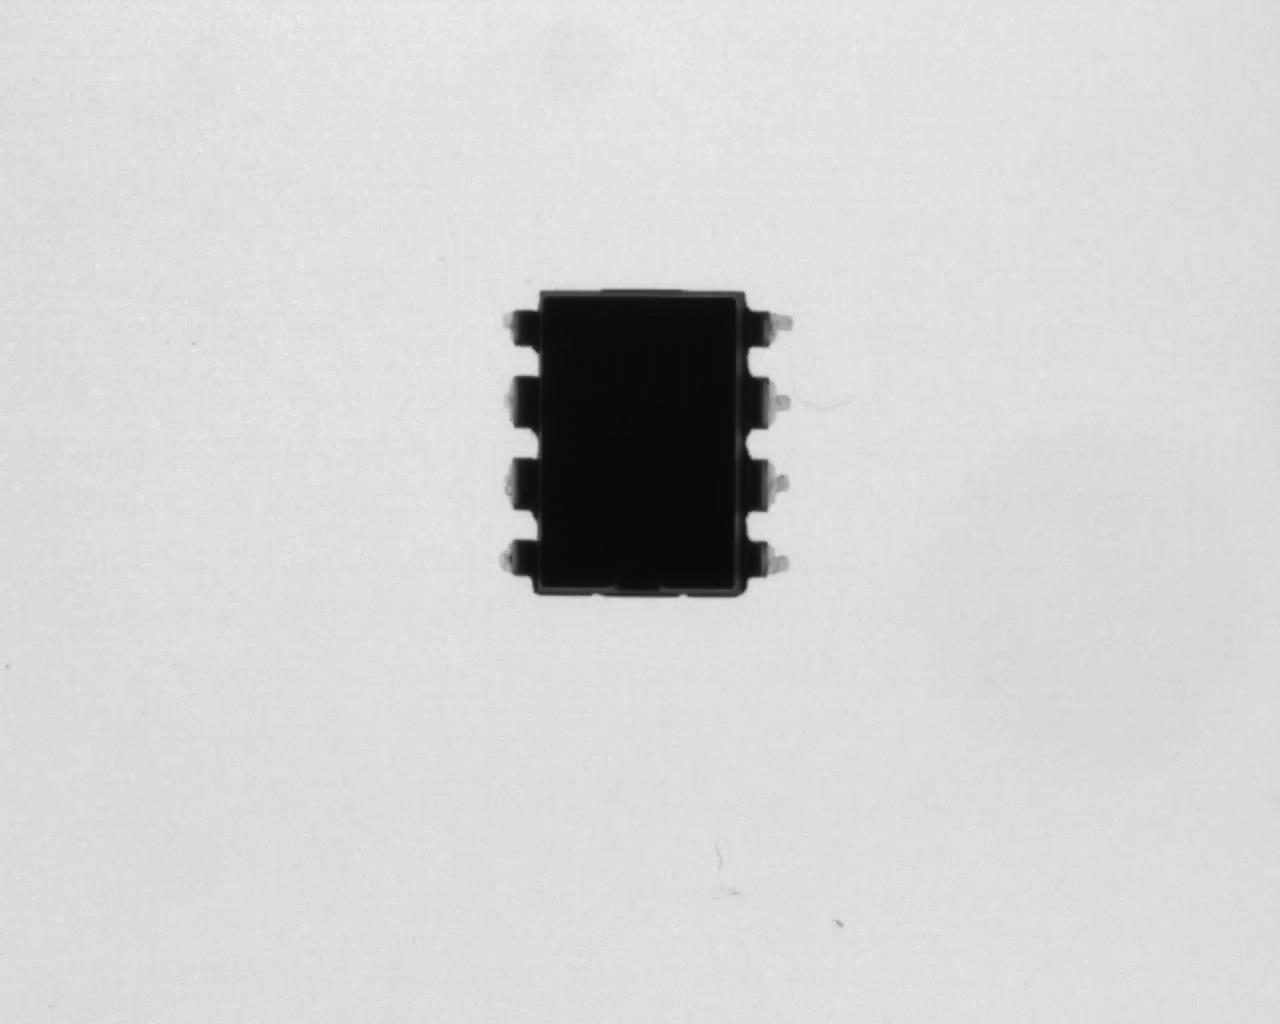Leg: (749, 355, 796, 440), (489, 450, 548, 516), (738, 293, 804, 349), (745, 448, 800, 514), (497, 299, 549, 351), (497, 371, 540, 433), (748, 534, 796, 587), (485, 533, 537, 581)
